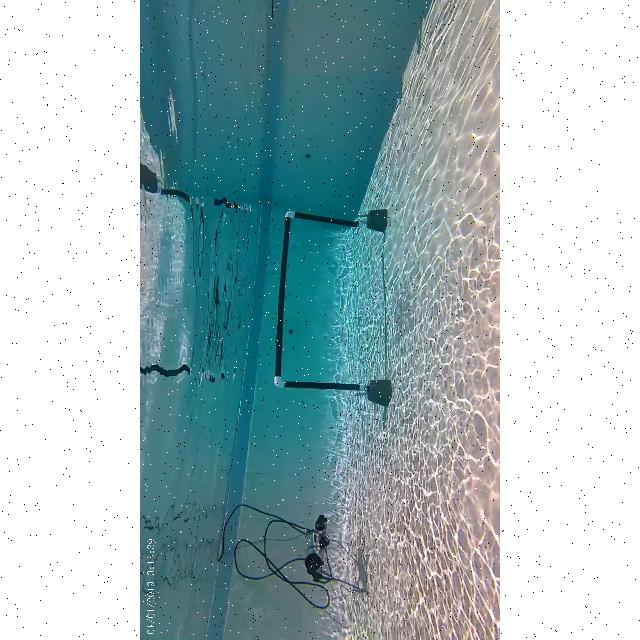prequal gate: (274, 210, 366, 396)
prequal gate leg l: (272, 368, 390, 406)
prequal gate leg r: (283, 206, 395, 238)
